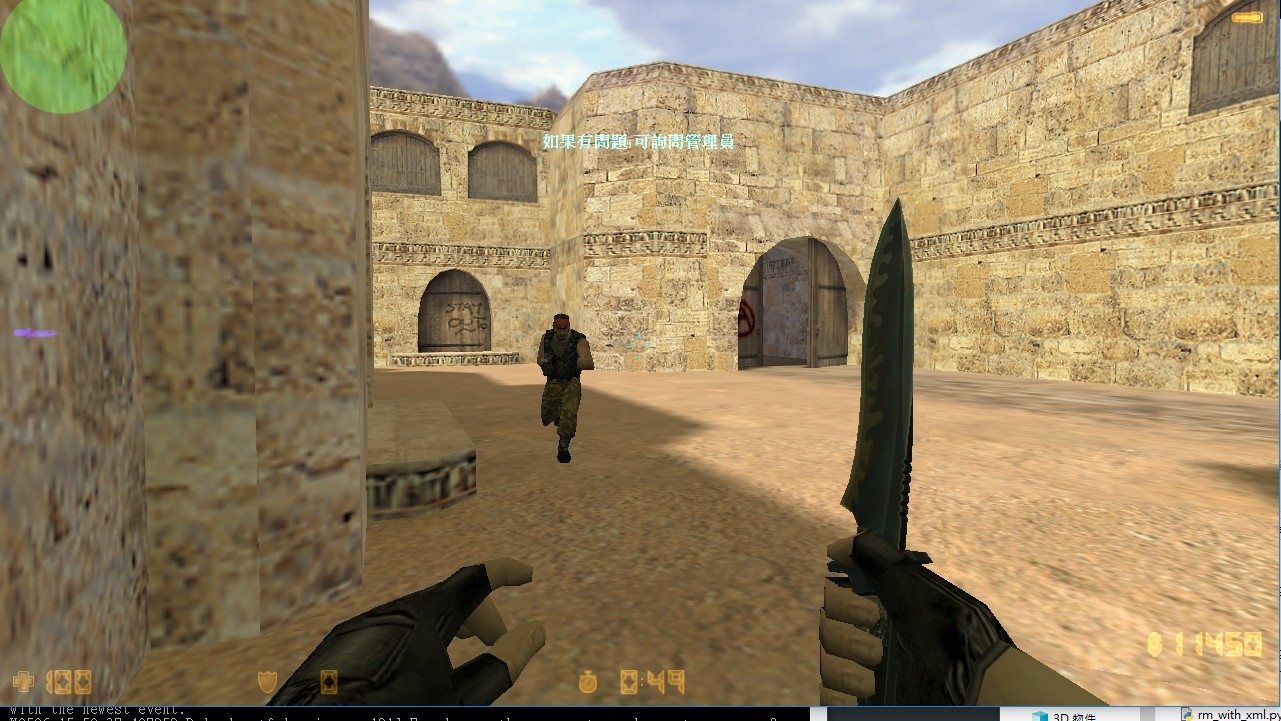person: (523, 305, 604, 475)
